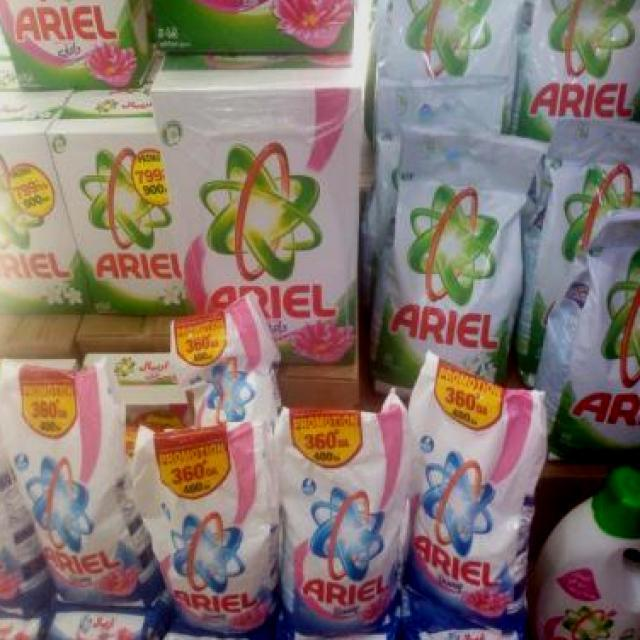Detergent: (164, 65, 348, 312), (404, 350, 542, 622), (376, 142, 516, 386), (2, 361, 130, 606), (145, 404, 275, 632), (278, 400, 409, 623), (56, 92, 175, 315), (551, 225, 640, 454), (0, 73, 77, 320), (507, 0, 640, 140), (534, 466, 640, 640), (0, 0, 150, 95), (0, 366, 32, 611)
